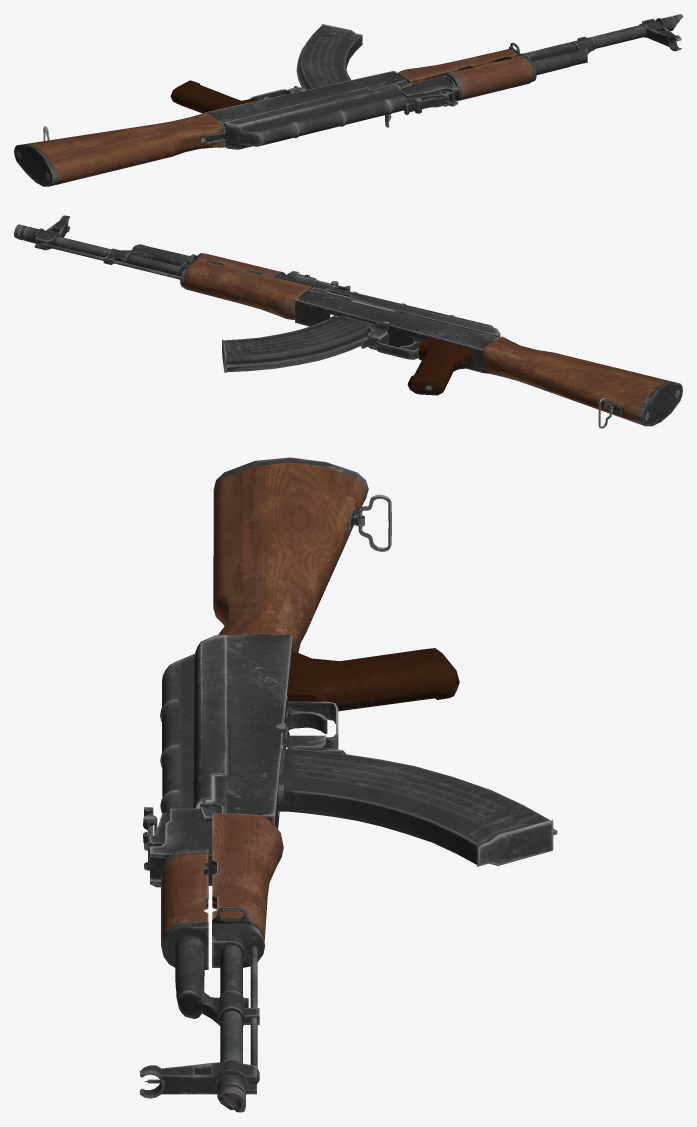
The picture shows the model from 3 angles, top to bottom: view 1: azimuth 30°, elevation 25°; view 2: azimuth 150°, elevation 25°; view 3: azimuth 270°, elevation 25°; orthographic projection. The views are drawn at different scales.
Parts seen in each view (by area): view 1: AK47_upd, AK47_upd_mag; view 2: AK47_upd, AK47_upd_mag; view 3: AK47_upd, AK47_upd_mag.
Part boxes in pixels (box(x1,y1,x2,y2)): AK47_upd: box(14, 14, 682, 186); AK47_upd_mag: box(296, 24, 362, 89); AK47_upd: box(14, 215, 682, 428); AK47_upd_mag: box(222, 315, 375, 372); AK47_upd: box(139, 457, 459, 1112); AK47_upd_mag: box(278, 748, 557, 866).
Bounding box in the file's own units: 0.8058 × 0.0589 × 0.2299.
Materials: 1 (1 with a texture image).
